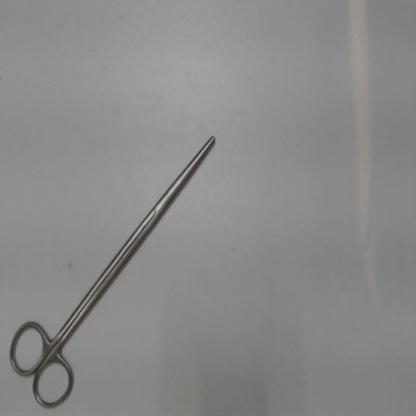9 Metzenbaum Scissors: (5, 132, 220, 414)
